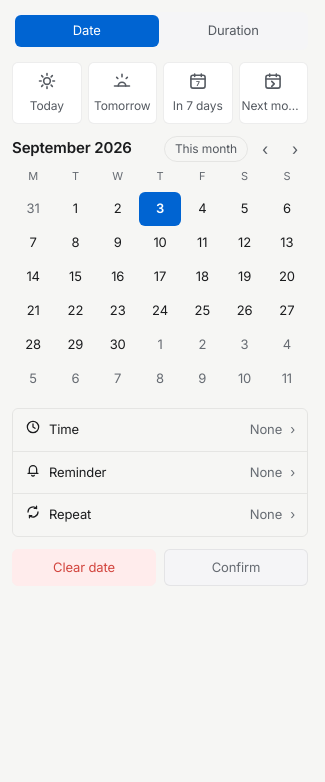
Scenario: Escape peels one layer at a time (§4.2) › closes the time list and leaves the field
The image size is (325, 782).
Click the button "Time None ›".
click(266, 429)  # box [13,409,307,452]
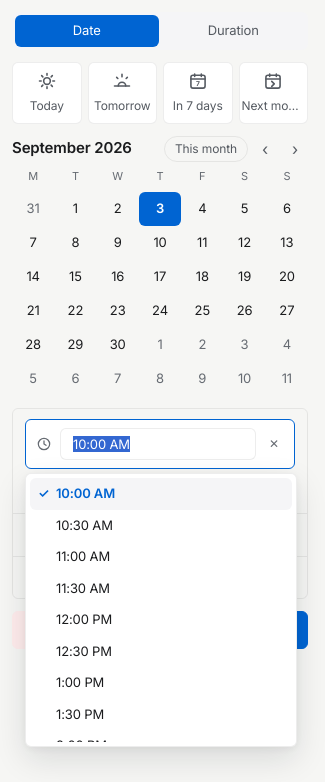
Check: the number of lists is 1, box [25,473,297,747]
Press Escape in the dropdown named "Starts", box [60,428,256,460]
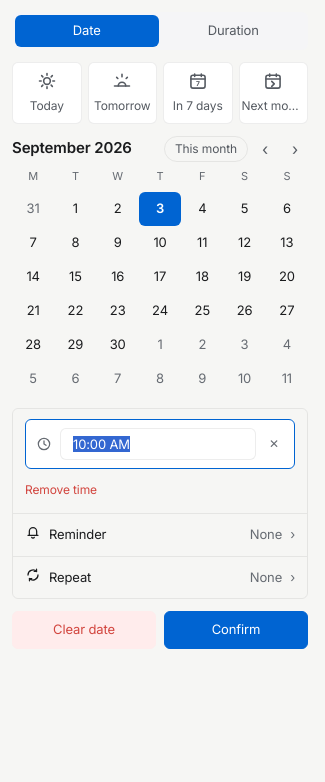
Check: the dropdown named "Starts" is shown, box [60,428,256,460]
Check: no lists are shown
